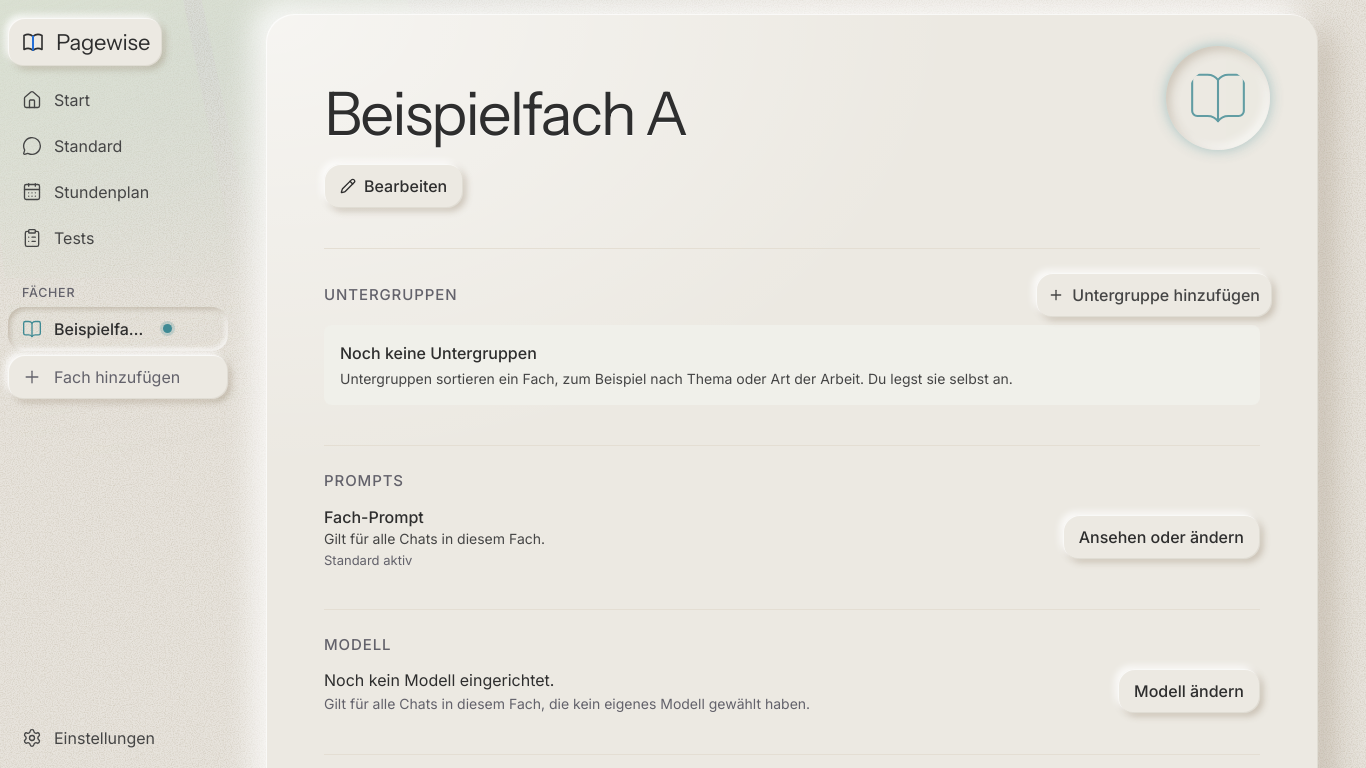
Test: Untergruppen › zeigt einen Leerzustand und legt eine Untergruppe an
Expected: the text "Noch keine Untergruppen" is shown, 340,343 -> 537,363
Step 1. Click the button "Untergruppe hinzufügen" → (1154, 295), box 1036,273 -> 1272,317
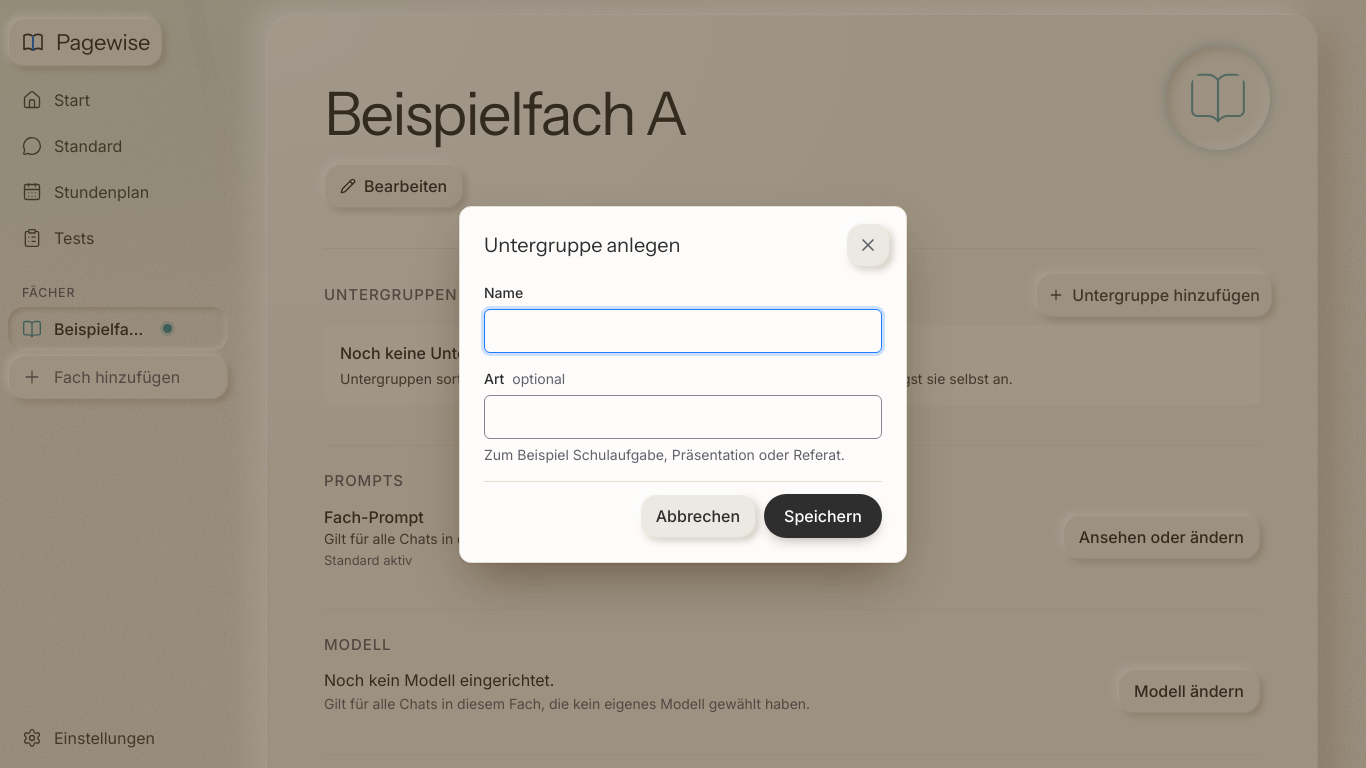
Step 2. Type "Beispiel-Thema" into the field labelled "Name" → (683, 330), box 484,308 -> 882,352
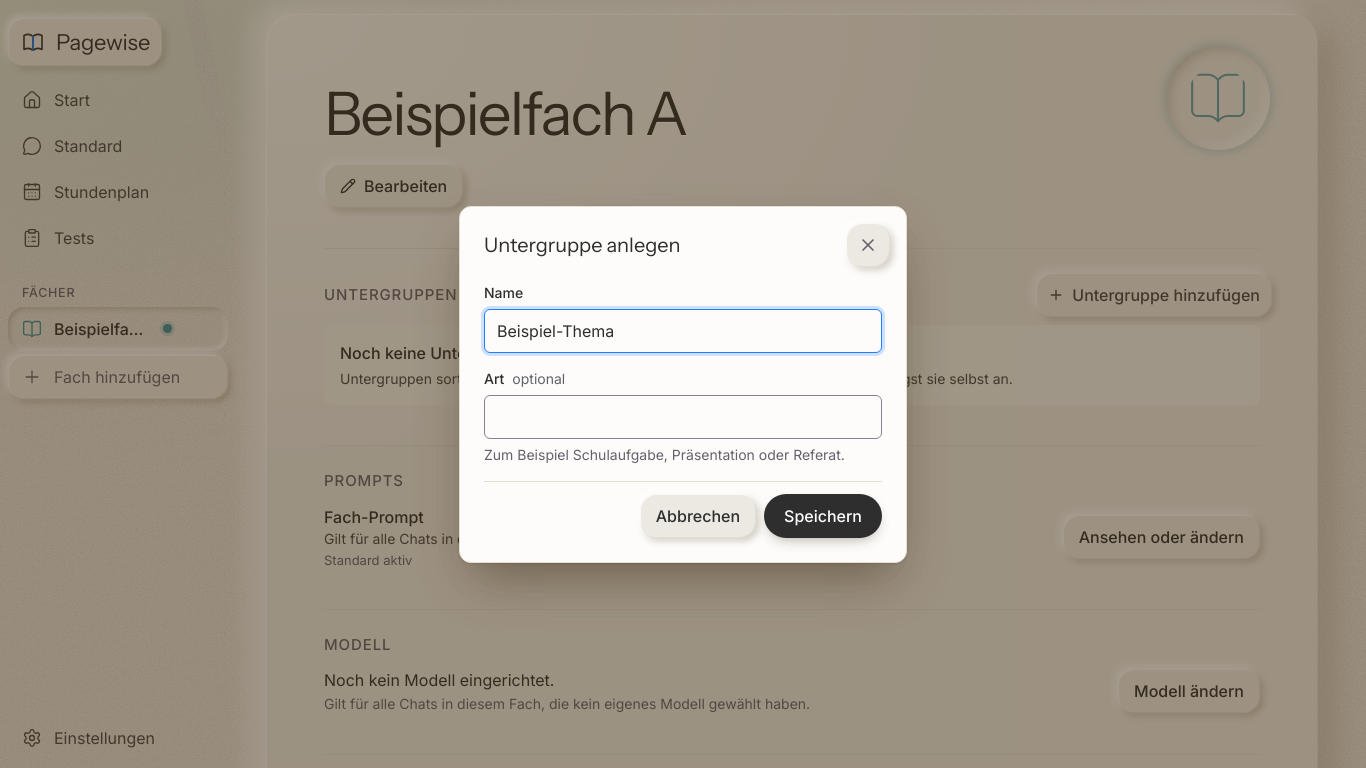
Step 3. Type "Beispielart" into the field labelled "Art" → (683, 416), box 484,394 -> 882,438
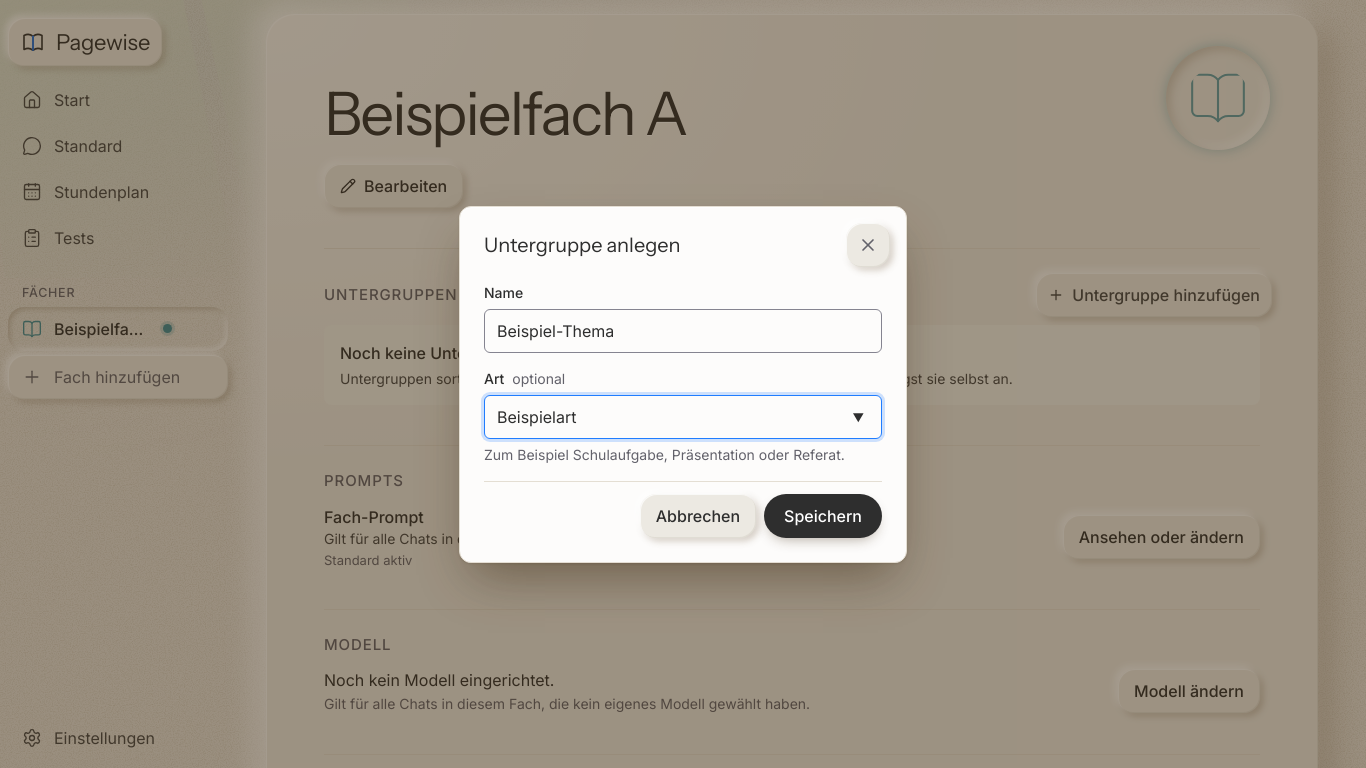
Step 4. Click the button "Speichern" → (823, 516), box 764,494 -> 882,538
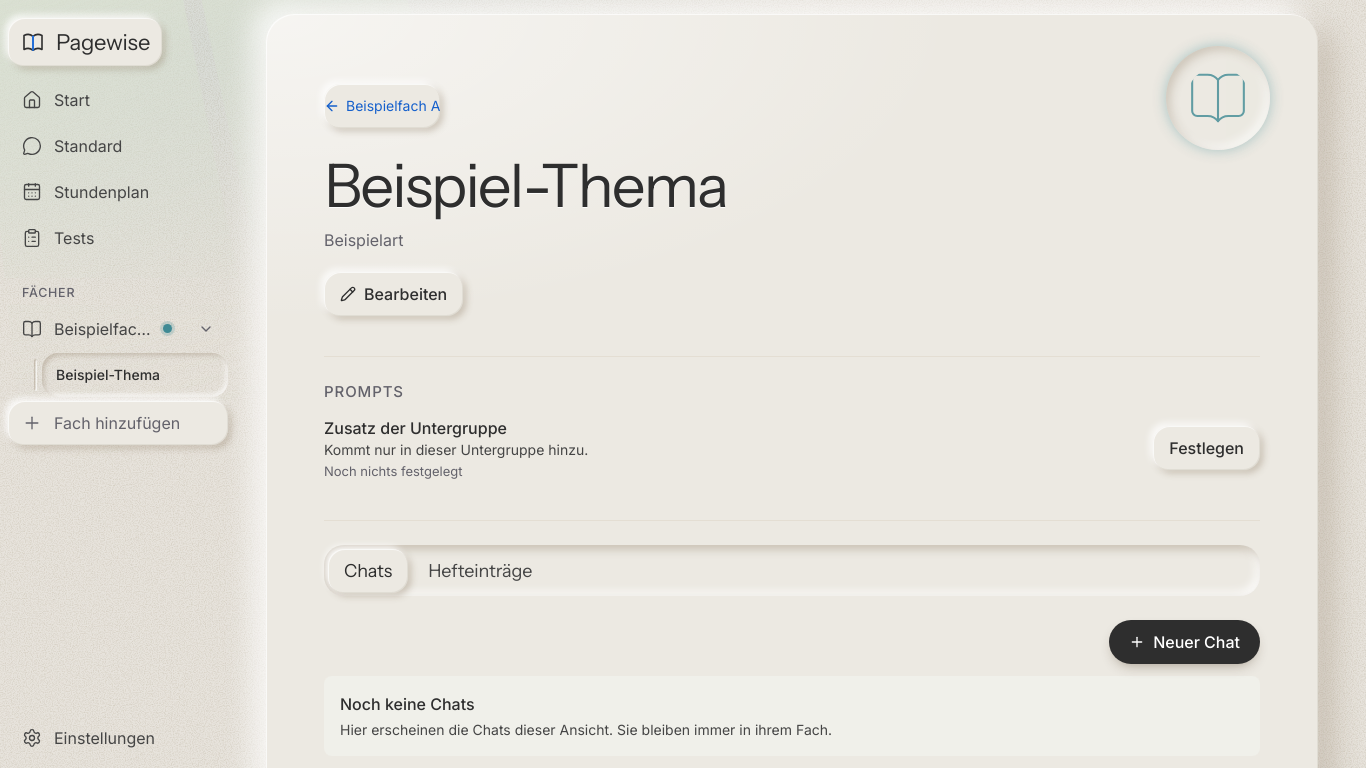
Expected: the heading "Beispiel-Thema" is shown, 324,156 -> 727,216
Expected: the text "Beispielart" is shown, 324,230 -> 404,250
Expected: the link "Beispiel-Thema" is shown, 42,353 -> 228,397
